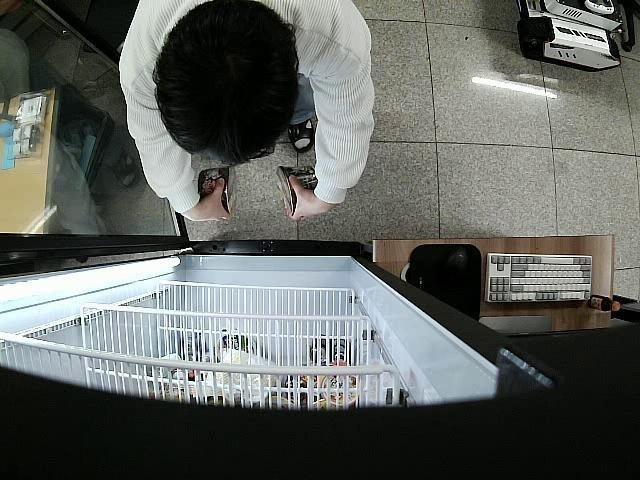07_buldak_L: (275, 164, 318, 214), (198, 166, 238, 214)
